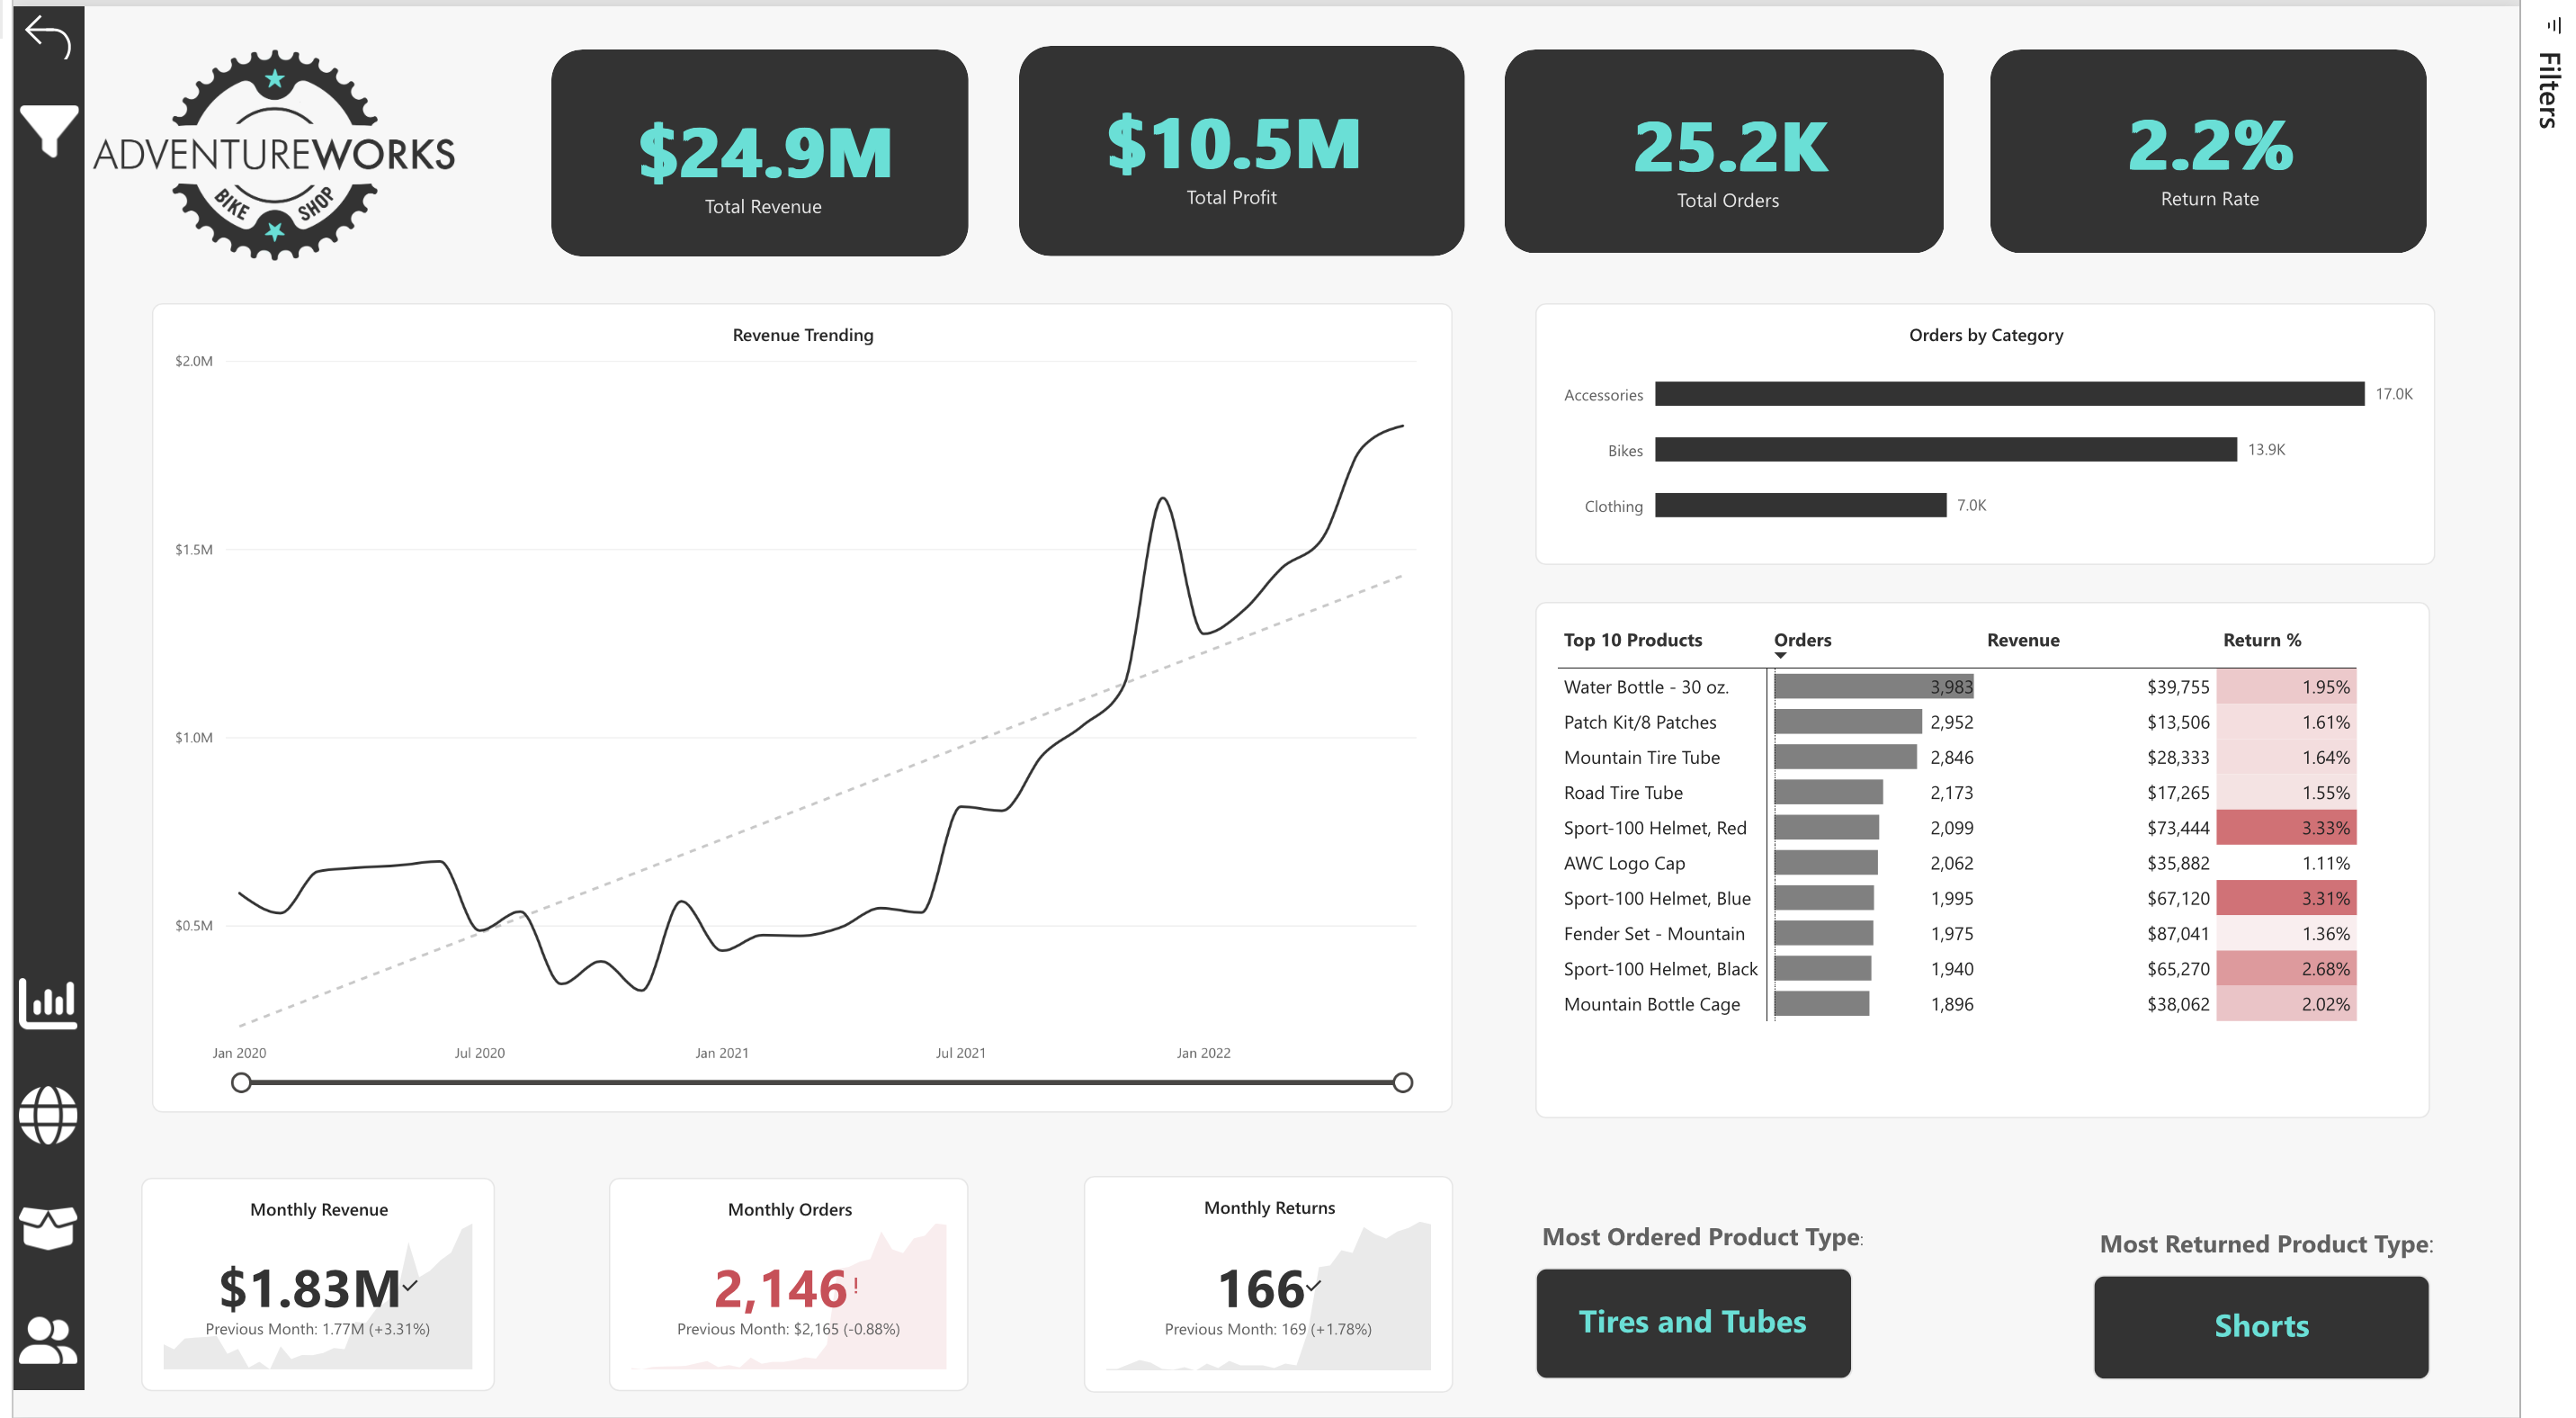

The dashboard page shown, as its layout file describes it:
{"tool":"powerbi","page":{"name":"Exec Dashboard","canvas":[1920,1080],"ordinal":0},"visuals":[{"type":"image","title":"AW Logo","box":[30,22,340,184],"z":0},{"type":"group","id":"g1","title":"KPI Backgrounds","box":[412.6,30.1,1437.1,162],"z":0,"group":"g3"},{"type":"shape","box":[412.6,33.5,319.6,158.6],"z":0,"group":"g1"},{"type":"card","fields":{"Values":["Measure Table.Total Revenue"]},"box":[456.2,53.5,239,130.5],"z":0,"group":"g2"},{"type":"actionButton","box":[0,808.8,53.2,80.9],"z":0,"group":"g4"},{"type":"shape","title":"Left Nav Background","box":[0,0,54.7,1060.3],"z":1000},{"type":"shape","box":[771.3,30.1,341.6,161],"z":1000,"group":"g1"},{"type":"group","id":"g2","title":"KPI Values","box":[456.2,38.2,1367.2,148.9],"z":1000,"group":"g3"},{"type":"card","fields":{"Values":["Measure Table.Total Profit"]},"box":[819.2,50.1,231.8,122],"z":1000,"group":"g2"},{"type":"actionButton","box":[0,894.6,53.2,80.9],"z":1000,"group":"g4"},{"type":"group","id":"g3","title":"KPIs","box":[412.6,30.1,1437.1,162],"z":2000},{"type":"shape","box":[1143.1,32.4,336.7,156.1],"z":2000,"group":"g1"},{"type":"card","fields":{"Values":["Measure Table.Return Rate"]},"box":[1543.9,38.2,279.5,148.9],"z":2000,"group":"g2"},{"type":"actionButton","box":[0,723,53.2,80.9],"z":2000,"group":"g4"},{"type":"shape","box":[1515.4,33.5,334.3,156.1],"z":3000,"group":"g1"},{"type":"card","fields":{"Values":["Measure Table.Total Orders"]},"box":[1199.9,57.7,228.6,112.9],"z":3000,"group":"g2"},{"type":"lineChart","title":"Revenue Trending","fields":{"Category":["Calendar Lookup.Year","Calendar Lookup.Start of Quarter","Calendar Lookup.Start of Month"],"Y":["Measure Table.Total Revenue"]},"box":[106.3,227.8,996.5,619.7],"z":3000},{"type":"actionButton","box":[0,980.4,53.2,80.9],"z":3000,"group":"g4"},{"type":"kpi","title":"Monthly Revenue","fields":{"Goal":["Measure Table.Previous Month Revenue"],"Indicator":["Measure Table.Total Revenue"],"TrendLine":["Calendar Lookup.Start of Month"]},"box":[97.6,897.9,270.8,163.5],"z":4000},{"type":"kpi","title":"Monthly Orders","fields":{"Goal":["Measure Table.Previous Month Orders"],"Indicator":["Measure Table.Total Orders"],"TrendLine":["Calendar Lookup.Start of Month"]},"box":[456.2,897.9,275.7,163.5],"z":5000},{"type":"kpi","title":"Monthly Returns","fields":{"Goal":["Measure Table.Previous Month Returns"],"Indicator":["Measure Table.Total Returns"],"TrendLine":["Calendar Lookup.Start of Month"]},"box":[819.8,895.4,283,165.9],"z":6000},{"type":"clusteredBarChart","title":"Orders by Category","fields":{"Category":["Product Categories Lookup.CategoryName"],"Y":["Measure Table.Total Orders"]},"box":[1166.6,227.8,689.6,200.5],"z":7000},{"type":"pivotTable","fields":{"Rows":["Product Lookup.ProductName"],"Values":["Measure Table.Total Orders","Measure Table.Total Revenue","Measure Table.Return Rate"]},"box":[1166.6,455.7,685.6,395.3],"z":8000},{"type":"card","fields":{"Values":["Min(Product Subcategories Lookup.SubcategoryName)"]},"box":[1166.2,966.2,243,85.1],"z":9000},{"type":"textbox","box":[1166.2,929.6,273.3,46.4],"z":10000},{"type":"card","fields":{"Values":["Min(Product Subcategories Lookup.SubcategoryName)"]},"box":[1593.2,971,258.6,80.5],"z":11000},{"type":"textbox","box":[1593.2,934.4,287.9,46.4],"z":12000},{"type":"actionButton","box":[0,0,53.2,40.3],"z":13000},{"type":"group","id":"g4","title":"Navigation Buttons","box":[0,723,51.6,337.2],"z":14000},{"type":"actionButton","box":[0,48.6,54.7,94.2],"z":15000}]}

Visuals, with their boxes on the page's 1920x1080 design canvas (x1, y1, x2, y2). These are canvas units, not pixel positions in the 2576x1418 screenshot, which may show the page scaled, cropped or inside an application window:
"AW Logo" image: {"left": 30, "top": 22, "right": 370, "bottom": 206}
"KPI Backgrounds" group: {"left": 413, "top": 30, "right": 1850, "bottom": 192}
shape: {"left": 413, "top": 34, "right": 732, "bottom": 192}
card - Measure Table.Total Revenue: {"left": 456, "top": 54, "right": 695, "bottom": 184}
actionButton: {"left": 0, "top": 809, "right": 53, "bottom": 890}
"Left Nav Background" shape: {"left": 0, "top": 0, "right": 55, "bottom": 1060}
shape: {"left": 771, "top": 30, "right": 1113, "bottom": 191}
"KPI Values" group: {"left": 456, "top": 38, "right": 1823, "bottom": 187}
card - Measure Table.Total Profit: {"left": 819, "top": 50, "right": 1051, "bottom": 172}
actionButton: {"left": 0, "top": 895, "right": 53, "bottom": 976}
"KPIs" group: {"left": 413, "top": 30, "right": 1850, "bottom": 192}
shape: {"left": 1143, "top": 32, "right": 1480, "bottom": 188}
card - Measure Table.Return Rate: {"left": 1544, "top": 38, "right": 1823, "bottom": 187}
actionButton: {"left": 0, "top": 723, "right": 53, "bottom": 804}
shape: {"left": 1515, "top": 34, "right": 1850, "bottom": 190}
card - Measure Table.Total Orders: {"left": 1200, "top": 58, "right": 1428, "bottom": 171}
"Revenue Trending" lineChart: {"left": 106, "top": 228, "right": 1103, "bottom": 848}
actionButton: {"left": 0, "top": 980, "right": 53, "bottom": 1061}
"Monthly Revenue" kpi: {"left": 98, "top": 898, "right": 368, "bottom": 1061}
"Monthly Orders" kpi: {"left": 456, "top": 898, "right": 732, "bottom": 1061}
"Monthly Returns" kpi: {"left": 820, "top": 895, "right": 1103, "bottom": 1061}
"Orders by Category" clusteredBarChart: {"left": 1167, "top": 228, "right": 1856, "bottom": 428}
pivotTable - Product Lookup.ProductName x Measure Table.Total Orders: {"left": 1167, "top": 456, "right": 1852, "bottom": 851}
card - Min(Product Subcategories Lookup.SubcategoryName): {"left": 1166, "top": 966, "right": 1409, "bottom": 1051}
textbox: {"left": 1166, "top": 930, "right": 1440, "bottom": 976}
card - Min(Product Subcategories Lookup.SubcategoryName): {"left": 1593, "top": 971, "right": 1852, "bottom": 1052}
textbox: {"left": 1593, "top": 934, "right": 1881, "bottom": 981}
actionButton: {"left": 0, "top": 0, "right": 53, "bottom": 40}
"Navigation Buttons" group: {"left": 0, "top": 723, "right": 52, "bottom": 1060}
actionButton: {"left": 0, "top": 49, "right": 55, "bottom": 143}
